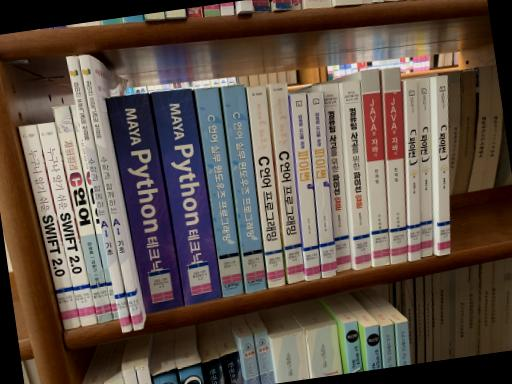book-spine: (66, 56, 132, 331), (79, 53, 144, 330), (105, 93, 184, 312), (151, 88, 222, 304), (53, 105, 113, 322), (18, 124, 81, 330), (38, 122, 98, 326), (70, 105, 120, 320), (195, 87, 244, 297), (222, 84, 267, 292), (246, 85, 286, 288), (270, 82, 305, 284), (320, 82, 352, 272), (290, 92, 321, 280), (361, 68, 390, 267), (342, 80, 371, 270), (308, 91, 337, 277), (381, 66, 407, 264), (405, 79, 421, 260), (435, 75, 451, 256), (418, 76, 433, 257)
